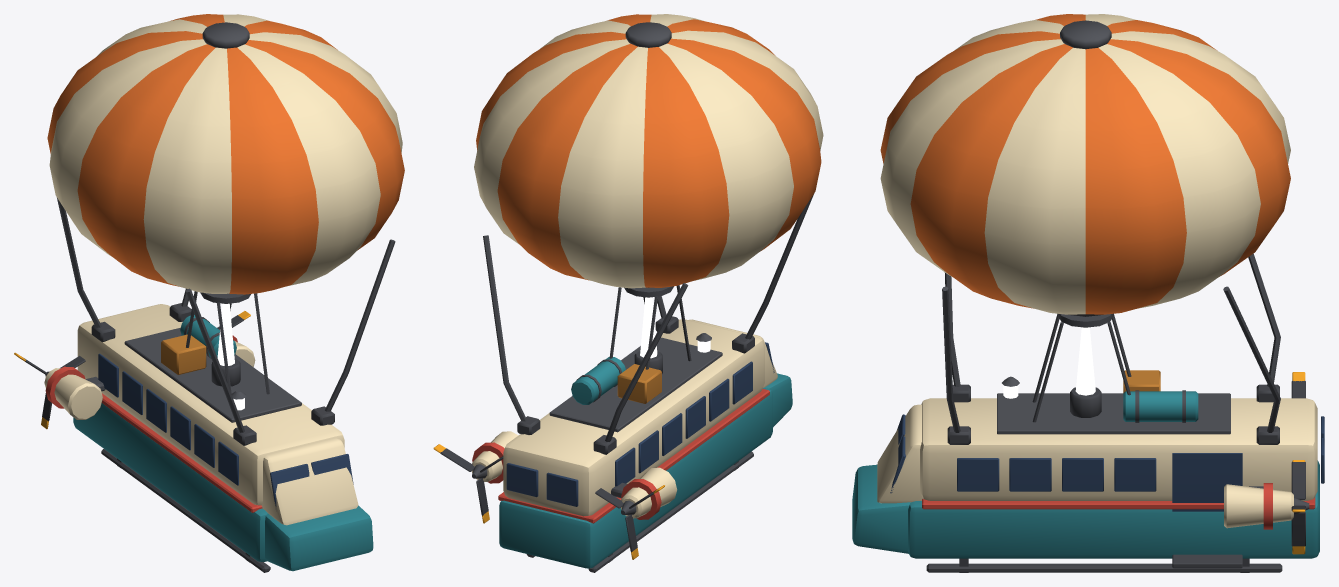
File: drop_vehicle.glb
3 renders of one model, left to right at view 1: azimuth 30°, elevation 25°; view 2: azimuth 150°, elevation 25°; view 3: azimuth 270°, elevation 25°, orthographic. The views are drawn at different scales.
Parts seen in each view (by area): view 1: blimp_envelope, blimp_gondola, blimp_rigging, blimp_glass, blimp_pods, blimp_cargo, blimp_flame, blimp_prop_l; view 2: blimp_envelope, blimp_gondola, blimp_rigging, blimp_glass, blimp_pods, blimp_cargo, blimp_prop_r, blimp_prop_l, blimp_flame; view 3: blimp_envelope, blimp_gondola, blimp_glass, blimp_rigging, blimp_cargo, blimp_pods, blimp_prop_r, blimp_flame.
Part boxes in pixels (<box>): blimp_envelope: <box>47,14,404,294</box>; blimp_gondola: <box>73,304,373,572</box>; blimp_rigging: <box>57,198,395,445</box>; blimp_glass: <box>98,353,353,506</box>; blimp_pods: <box>44,329,255,419</box>; blimp_cargo: <box>161,315,236,374</box>; blimp_flame: <box>217,303,234,365</box>; blimp_prop_l: <box>14,352,85,429</box>; blimp_envelope: <box>474,14,823,288</box>; blimp_gondola: <box>498,319,792,572</box>; blimp_rigging: <box>483,193,814,454</box>; blimp_glass: <box>506,342,774,506</box>; blimp_pods: <box>472,431,677,519</box>; blimp_cargo: <box>571,357,661,404</box>; blimp_prop_r: <box>433,444,503,523</box>; blimp_prop_l: <box>595,485,664,559</box>; blimp_flame: <box>640,297,657,358</box>; blimp_envelope: <box>880,14,1290,316</box>; blimp_gondola: <box>852,393,1319,572</box>; blimp_glass: <box>890,414,1324,511</box>; blimp_rigging: <box>942,253,1280,444</box>; blimp_cargo: <box>1123,370,1198,422</box>; blimp_pods: <box>1224,483,1293,529</box>; blimp_prop_r: <box>1291,460,1309,554</box>; blimp_flame: <box>1075,327,1095,395</box>.
Bounding box in the file's own units: 8.12 × 12.36 × 10.08.
